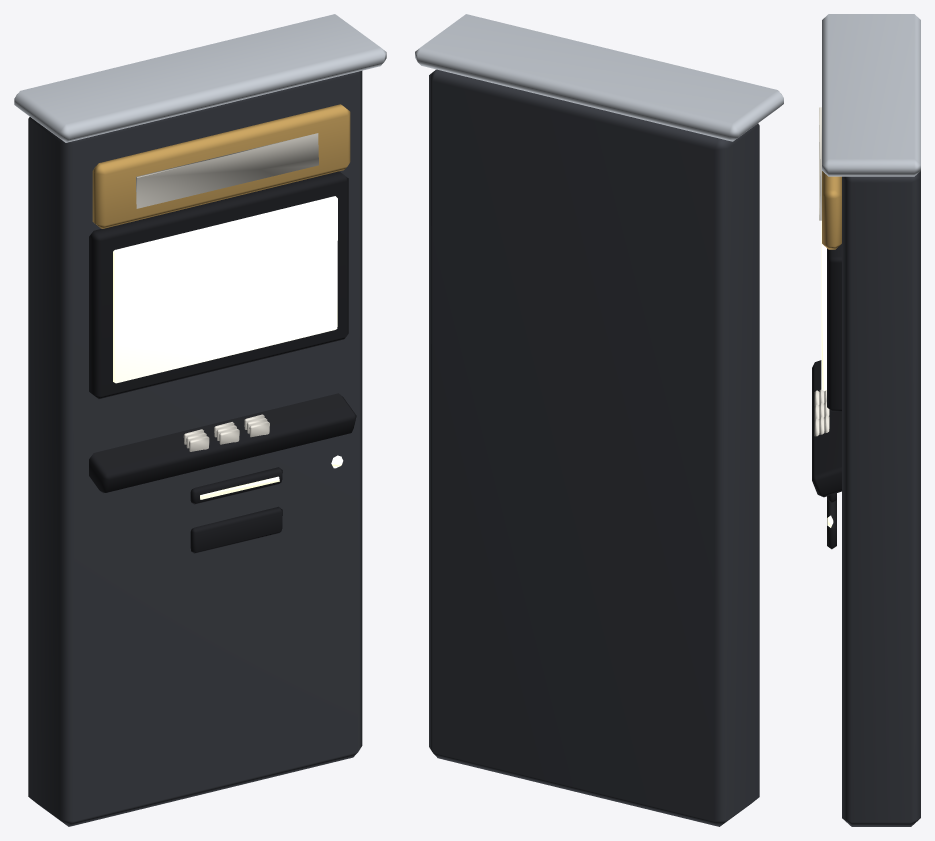
File: atm_unit.glb
3 views of the same model, side by side, from view 1: azimuth 30°, elevation 25°; view 2: azimuth 150°, elevation 25°; view 3: azimuth 270°, elevation 25° (orthographic). The views are drawn at different scales.
Parts seen in each view (by area): view 1: atm_unit; view 2: atm_unit; view 3: atm_unit.
Part boxes in pixels (left/top/right/bottom): atm_unit: left=14, top=14, right=386, bottom=826; atm_unit: left=415, top=14, right=783, bottom=826; atm_unit: left=812, top=14, right=920, bottom=826.
Size of the model in its own units: 1.08 by 2.26 by 0.3307.
